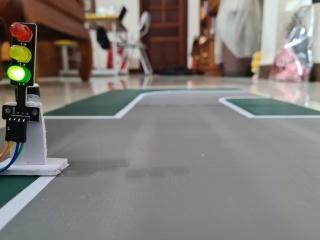green: (4, 13, 41, 100)
